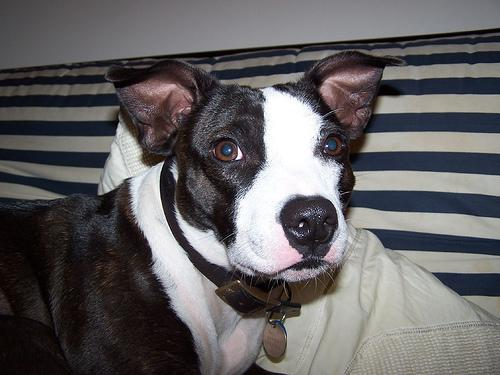dog-staffordshire_bull_terrier: (104, 49, 405, 280)
